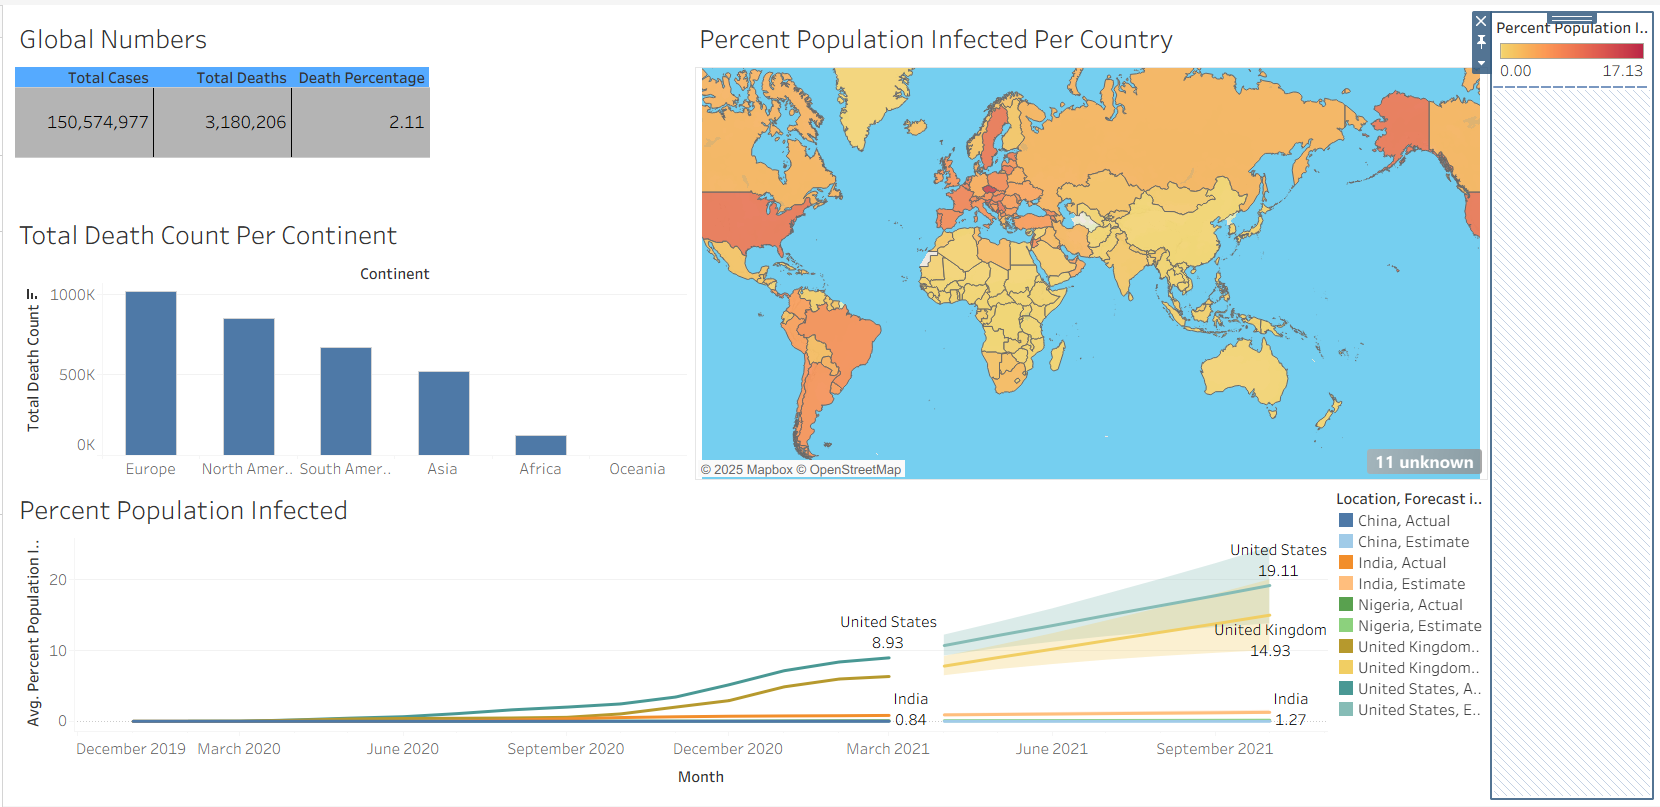

What the dashboard file says about the page in this screenshot:
{"tool":"tableau","page":{"name":"Dashboard 1","canvas":[1000,1000],"units":"permille","ordinal":0},"visuals":[{"type":"worksheet","title":"Sheet 1","mark":"Automatic","box":[4.8,10,410.4,245]},{"type":"worksheet","title":"Sheet 3","mark":"Automatic","box":[415.2,10,483.4,588]},{"type":"legend","title":"Sheet 3","param":"[federated.1pvivcb0dm4eh21fp8duu1smzw3p].[sum:PercentPopulationInfected:qk]","box":[898.6,10,96.6,91.1]},{"type":"worksheet","title":"Sheet 2","mark":"Automatic","rows":["TotalDeathCount"],"cols":["location"],"box":[4.8,255,410.4,343]},{"type":"worksheet","title":"Sheet 4","mark":"Automatic","rows":["PercentPopulationInfected"],"cols":["Date"],"box":[4.8,598,797.2,392]},{"type":"legend","title":"Sheet 4","param":"[federated.131jkda1xc7s1j146xyla1fb0dv4].[none:Location:nk]\n[federated.131jkda1x","box":[802.1,598,96.6,392]}]}

Visuals, with their boxes on the dashboard's canvas, which has no fixed pixel size, in thousandths of its width and height (x1, y1, x2, y2). These are canvas units, not pixel positions in the 1660x807 screenshot, which may show the page scaled, cropped or inside an application window:
"Sheet 1" worksheet: 5/10/415/255
"Sheet 3" worksheet: 415/10/899/598
"Sheet 3" legend: 899/10/995/101
"Sheet 2" worksheet: 5/255/415/598
"Sheet 4" worksheet: 5/598/802/990
"Sheet 4" legend: 802/598/899/990
